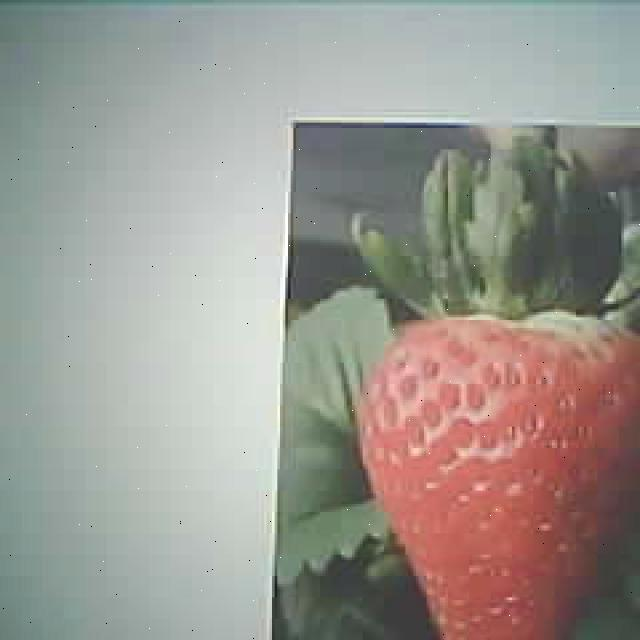ripe: (359, 311, 633, 640)
